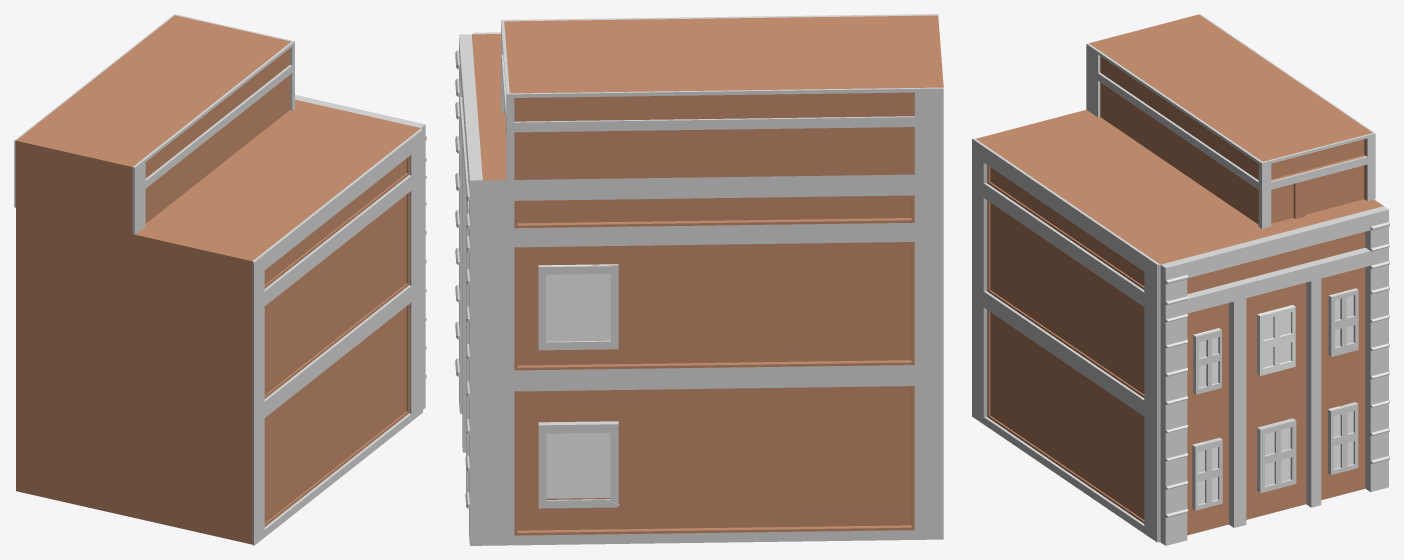
File: orangehouse1.glb
3 views of the same model, side by side, from view 1: azimuth 30°, elevation 25°; view 2: azimuth 150°, elevation 25°; view 3: azimuth 270°, elevation 25° (orthographic). The views are drawn at different scales.
Visible parts, largest first — view 1: 建物1.001, 白の枠.001, 建物1 白.001; view 2: 建物1.001, 建物1.側面.001, 白の枠.001, 建物1 白.001, 側面 窓上.001, 側面 窓下.001, 側面 窓枠下.001, 側面 窓枠上.001; view 3: 建物1.001, 建物1 白.001, 白の枠.001, 真ん中下 窓枠.001, 右下 窓枠.001, 窓枠.013, 左下 窓枠.001, 右上 窓枠.003, 右上 窓枠.002, 真ん中上 窓.003, 真ん中下 窓.001, 左上 窓.001 (+3 smaller).
Part boxes in pixels (<box>): 建物1.001: <box>16,15,420,544</box>; 白の枠.001: <box>14,14,422,545</box>; 建物1 白.001: <box>295,95,426,409</box>; 建物1.001: <box>471,15,943,535</box>; 建物1.側面.001: <box>483,174,943,545</box>; 白の枠.001: <box>472,14,943,180</box>; 建物1 白.001: <box>455,34,482,545</box>; 側面 窓上.001: <box>538,264,618,341</box>; 側面 窓下.001: <box>546,433,619,504</box>; 側面 窓枠下.001: <box>538,421,618,508</box>; 側面 窓枠上.001: <box>538,265,618,350</box>; 建物1.001: <box>976,14,1383,535</box>; 建物1 白.001: <box>1160,206,1389,545</box>; 白の枠.001: <box>972,14,1375,542</box>; 真ん中下 窓枠.001: <box>1257,418,1296,493</box>; 右下 窓枠.001: <box>1328,402,1358,474</box>; 窓枠.013: <box>1258,306,1295,375</box>; 左下 窓枠.001: <box>1192,437,1222,510</box>; 右上 窓枠.003: <box>1329,289,1358,356</box>; 右上 窓枠.002: <box>1194,329,1221,394</box>; 真ん中上 窓.003: <box>1257,305,1293,374</box>; 真ん中下 窓.001: <box>1257,427,1290,487</box>; 左上 窓.001: <box>1193,328,1219,393</box>.
Bounding box in the file's own units: 69.91 × 59.22 × 65.25.
